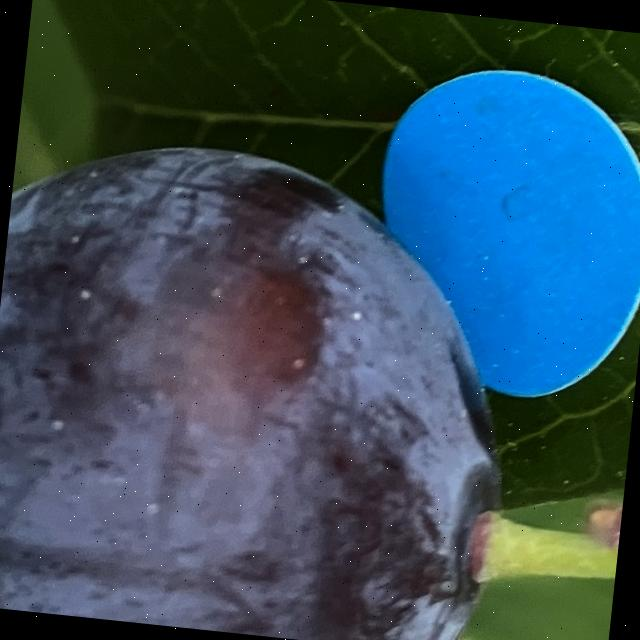Blueberries: (0, 115, 545, 640)
